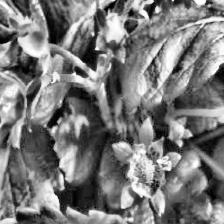Blossom Blight: (127, 144, 172, 197)
